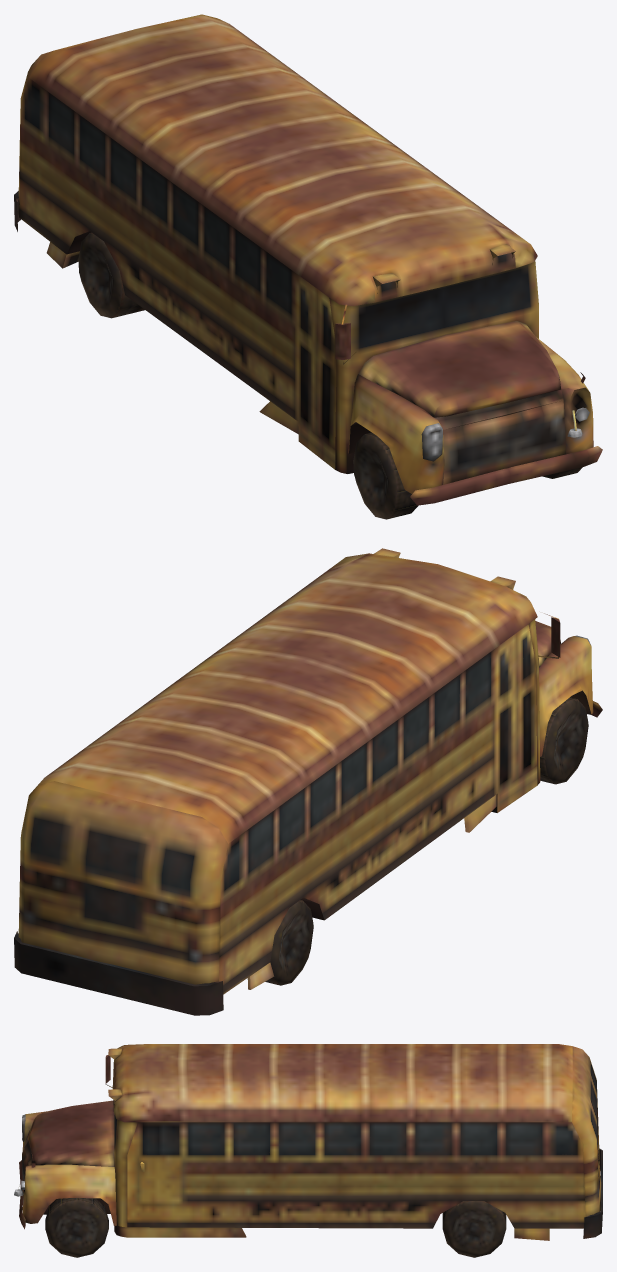
File: Old_SchoolBus.fbx
The picture shows the model from 3 angles, top to bottom: view 1: azimuth 30°, elevation 25°; view 2: azimuth 150°, elevation 25°; view 3: azimuth 270°, elevation 25°; orthographic projection. The views are drawn at different scales.
Parts seen in each view (by area): view 1: OldSchoolBus, OldSchoolBus_Wheel_Front_R, OldSchoolBus_Wheel_Rear_R; view 2: OldSchoolBus, OldSchoolBus_Wheel_Front_R, OldSchoolBus_Wheel_Rear_R; view 3: OldSchoolBus, OldSchoolBus_Wheel_Front_L, OldSchoolBus_Wheel_Rear_L.
Part boxes in pixels (x1,y1,x2,y2): OldSchoolBus: [14, 14, 602, 505]; OldSchoolBus_Wheel_Front_R: [353, 432, 418, 519]; OldSchoolBus_Wheel_Rear_R: [78, 232, 144, 318]; OldSchoolBus: [14, 548, 602, 1015]; OldSchoolBus_Wheel_Front_R: [540, 697, 588, 784]; OldSchoolBus_Wheel_Rear_R: [265, 900, 313, 985]; OldSchoolBus: [14, 1044, 602, 1240]; OldSchoolBus_Wheel_Front_L: [45, 1198, 108, 1257]; OldSchoolBus_Wheel_Rear_L: [442, 1201, 506, 1257].
Bounding box in the file's own units: 3.74 × 3.63 × 12.
